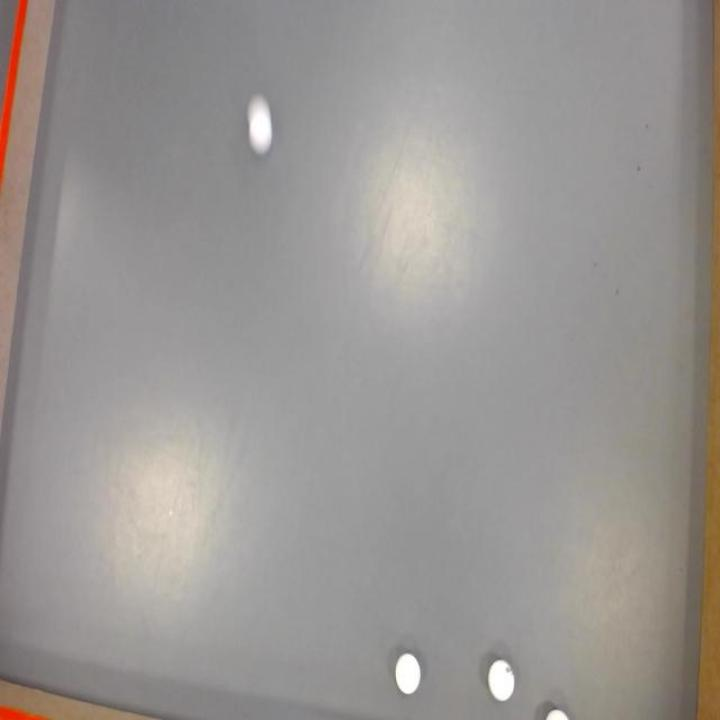white: (248, 94, 272, 156), (488, 658, 516, 702), (396, 654, 422, 695), (546, 706, 569, 720)
